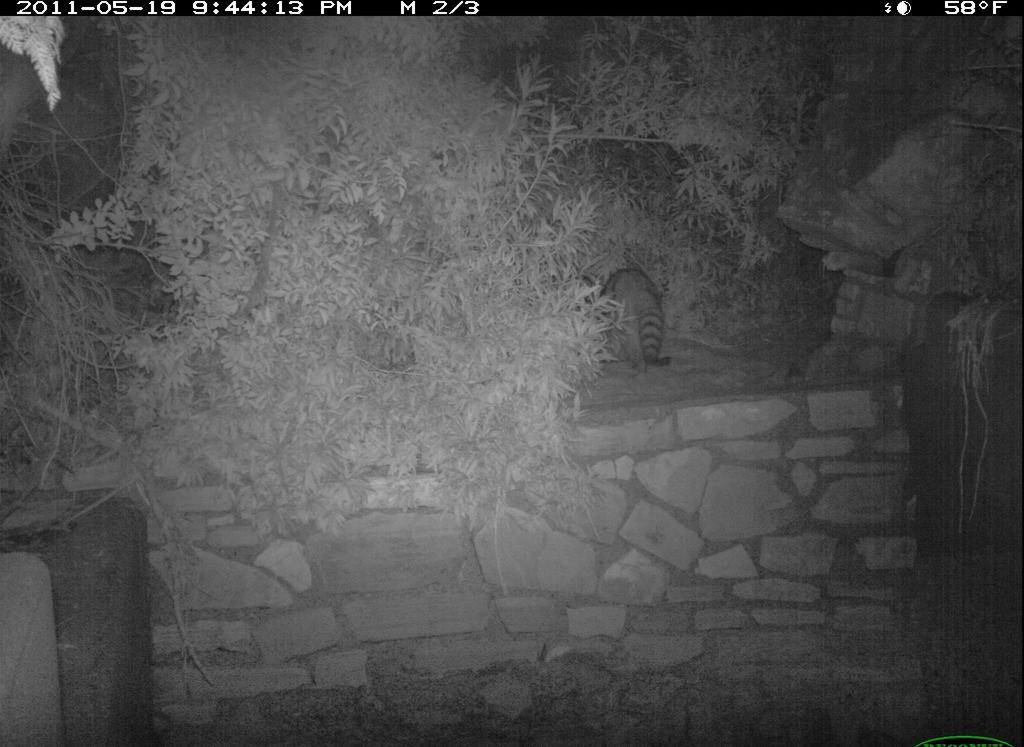raccoon: (582, 265, 679, 386)
